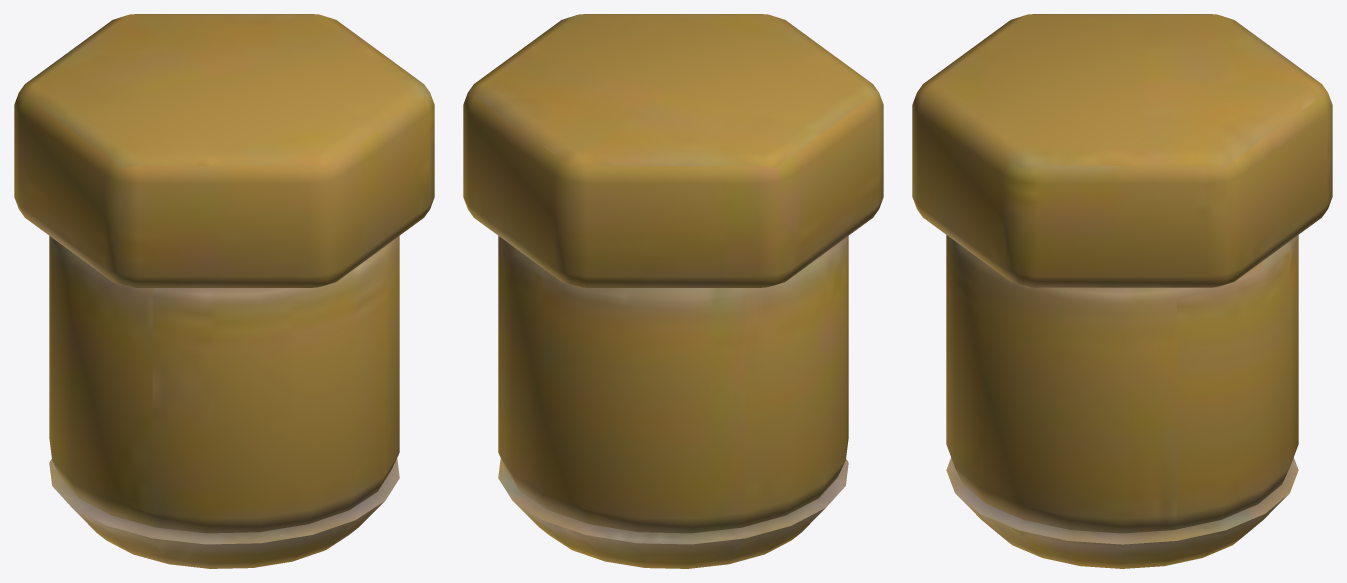
The model's file is hose_coupling.glb.
3 renders of one model, left to right at view 1: azimuth 30°, elevation 25°; view 2: azimuth 150°, elevation 25°; view 3: azimuth 270°, elevation 25°, orthographic.
Parts seen in each view (by area): view 1: hose_coupling; view 2: hose_coupling; view 3: hose_coupling.
Boxes of the visible parts, x1=… form: hose_coupling: x1=14, y1=14, x2=434, y2=568; hose_coupling: x1=463, y1=14, x2=883, y2=568; hose_coupling: x1=912, y1=14, x2=1332, y2=568.
Bounding box in the file's own units: 0.0658 × 0.083 × 0.0739.
Materials: 1 (1 with a texture image).
